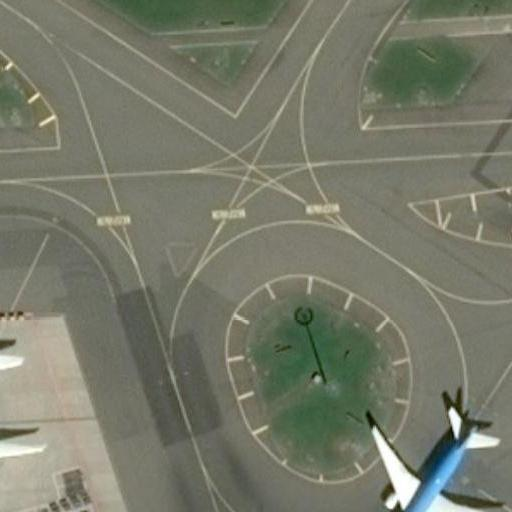Aircraft: (348, 392, 512, 512), (0, 310, 45, 512)
